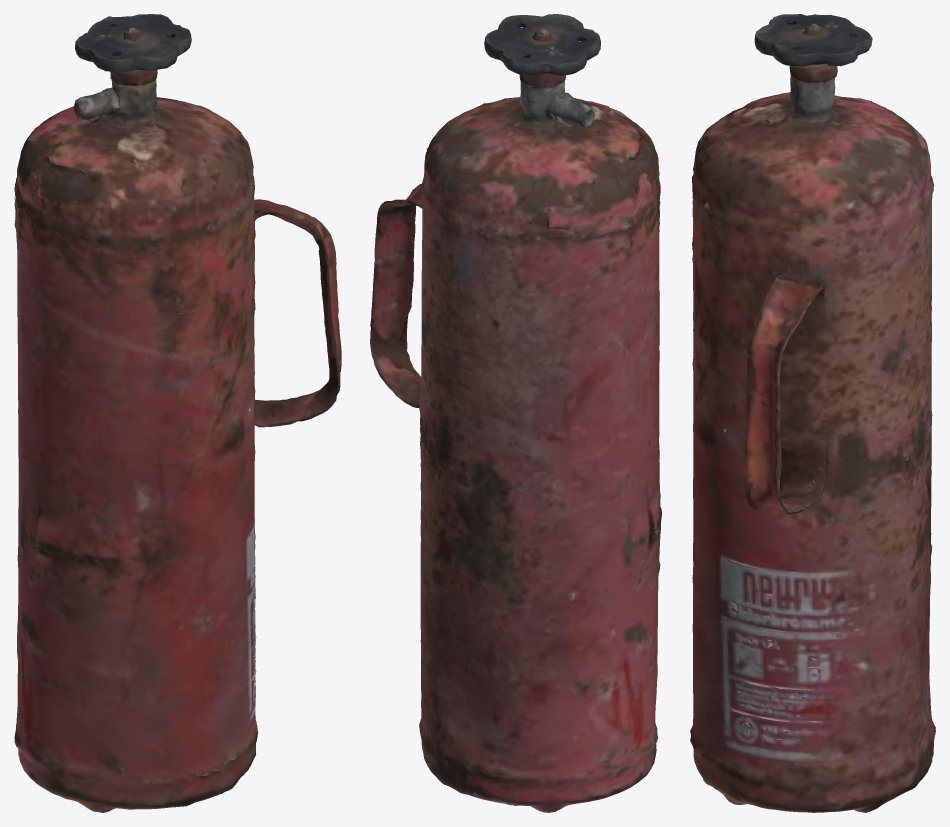
Rendered from fire_extinguisher_old_rusty_3d_scan.glb.
3 renders of one model, left to right at view 1: azimuth 30°, elevation 25°; view 2: azimuth 150°, elevation 25°; view 3: azimuth 270°, elevation 25°, orthographic.
Visible parts, largest first — view 1: Object_2; view 2: Object_2; view 3: Object_2.
Part boxes in pixels (<box>): Object_2: <box>14,14,341,812</box>; Object_2: <box>370,14,661,812</box>; Object_2: <box>690,14,935,812</box>.
Bounding box in the file's own units: 0.2714 × 0.653 × 0.1929.
1 material, 1 textured.
